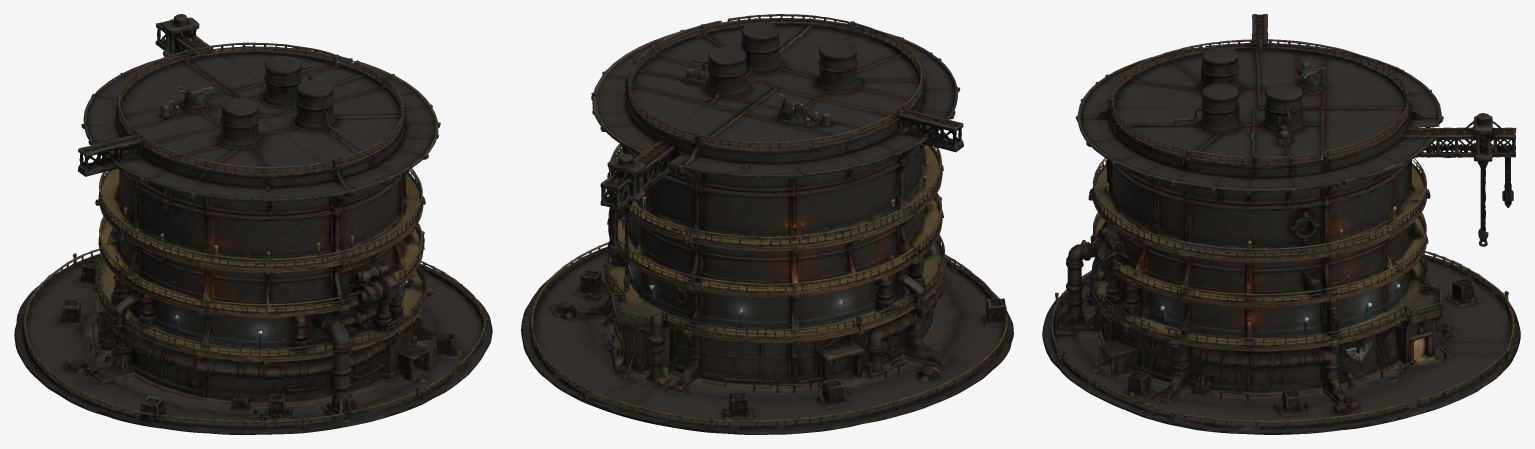
File: gothic_refinery.glb
The picture shows the model from 3 angles, left to right: view 1: azimuth 30°, elevation 25°; view 2: azimuth 150°, elevation 25°; view 3: azimuth 270°, elevation 25°; orthographic projection. The views are drawn at different scales.
Size of the model in its own units: 0.9775 by 0.5887 by 0.9807.
1 material, 1 textured.
